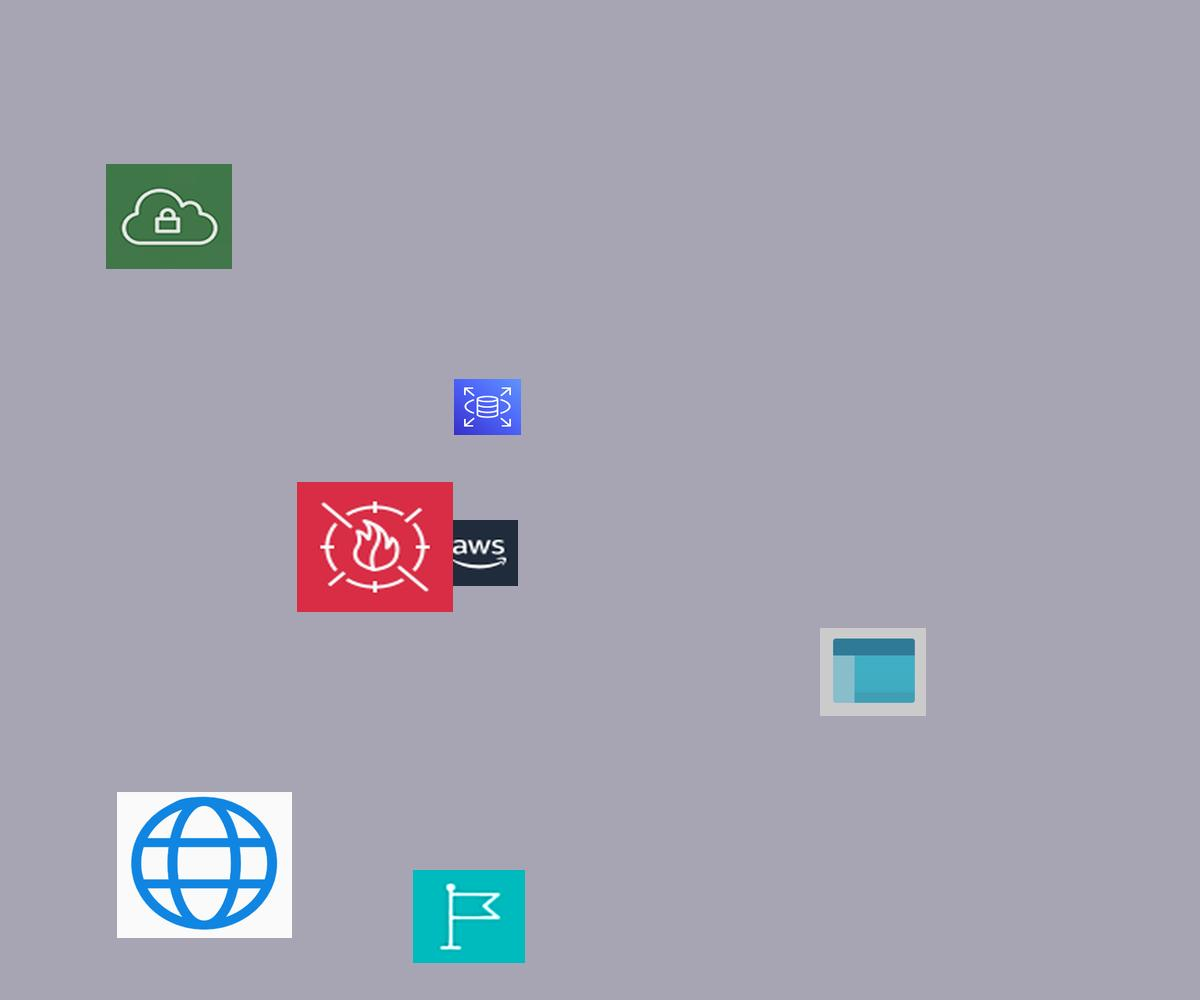AWS-Cloud-logo: (439, 520, 518, 586)
AWS-Private_vpc: (106, 164, 232, 269)
AWS-RDS: (454, 379, 521, 435)
AWS-Region: (413, 870, 525, 963)
AWS-WAF: (297, 482, 453, 612)
Azure_http: (117, 792, 292, 938)
Azure_management-portal: (820, 628, 926, 716)
